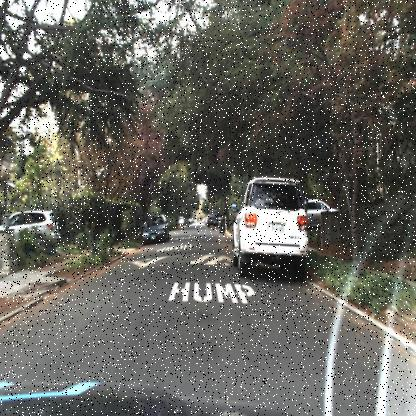car: (230, 172, 308, 284), (0, 206, 63, 249), (142, 214, 172, 247), (208, 209, 219, 226), (174, 211, 185, 226)
